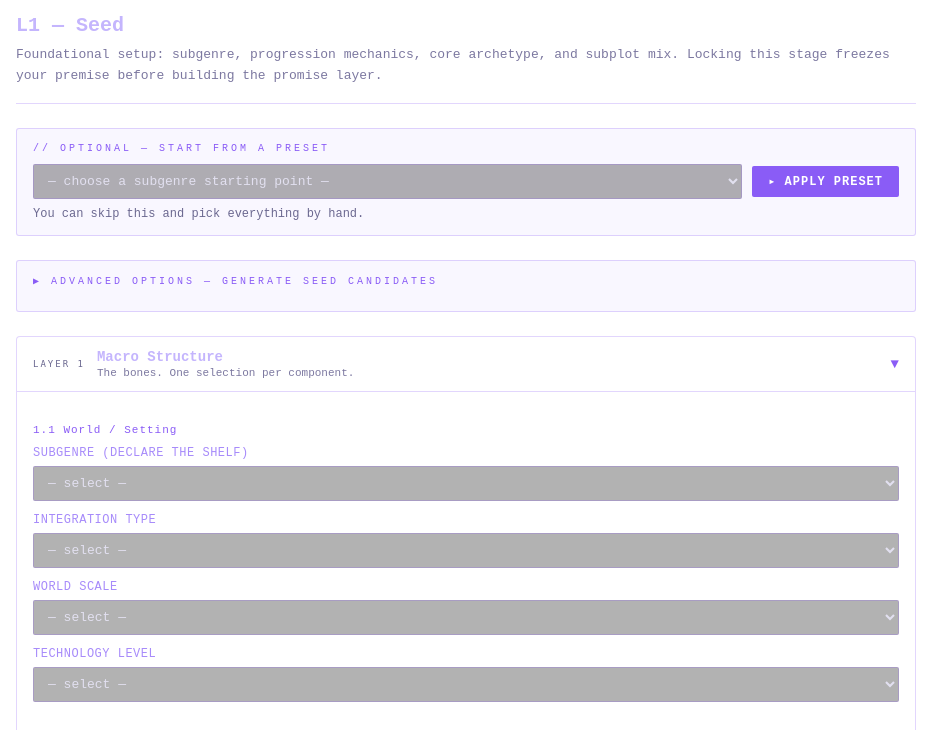
it: L1Seed › generates and displays seed candidates when button clicked
The width and height of the screenshot is (933, 730).
// Open advanced options
Click the text "▶ ADVANCED OPTIONS — GENERATE SEED CANDIDATES": (236, 281) [33,276,438,287]
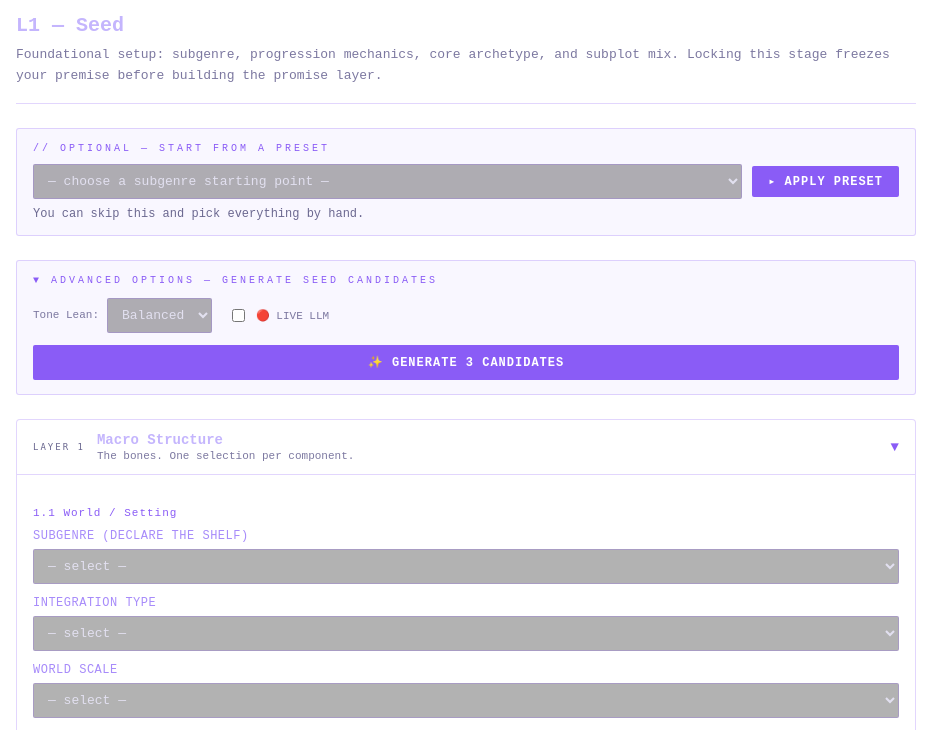
Check: the button "✨ GENERATE 3 CANDIDATES" is shown
// Click generate button
Click the button "✨ GENERATE 3 CANDIDATES": (466, 362) [33,345,899,380]
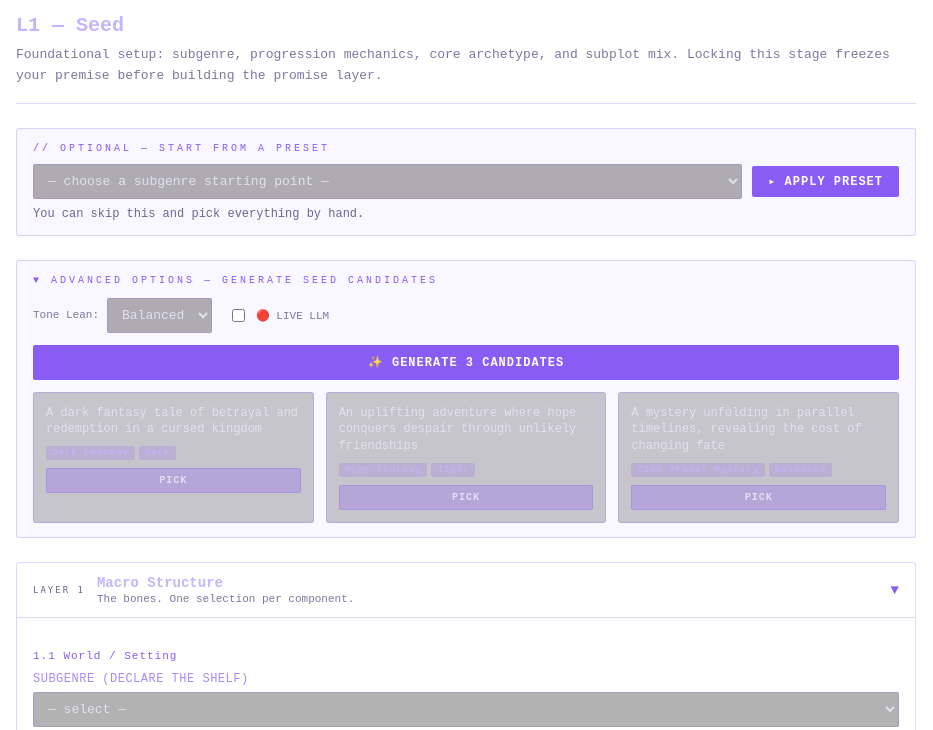
Check: the text "A dark fantasy tale of betrayal" is shown, box [46,406,298,436]
Check: the text "An uplifting adventure" is shown, box [339,406,576,453]
Check: the text "A mystery unfolding" is shown, box [631,406,862,453]
